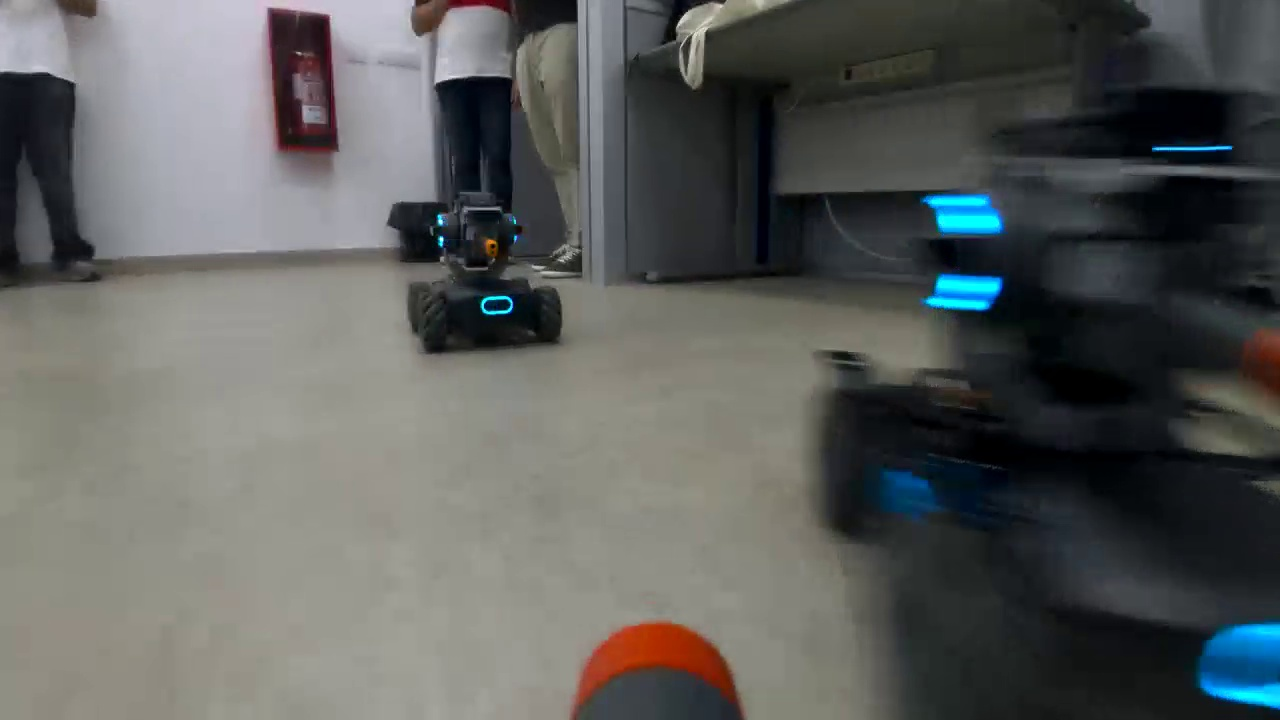robot: (818, 86, 1280, 720), (397, 189, 578, 353)
